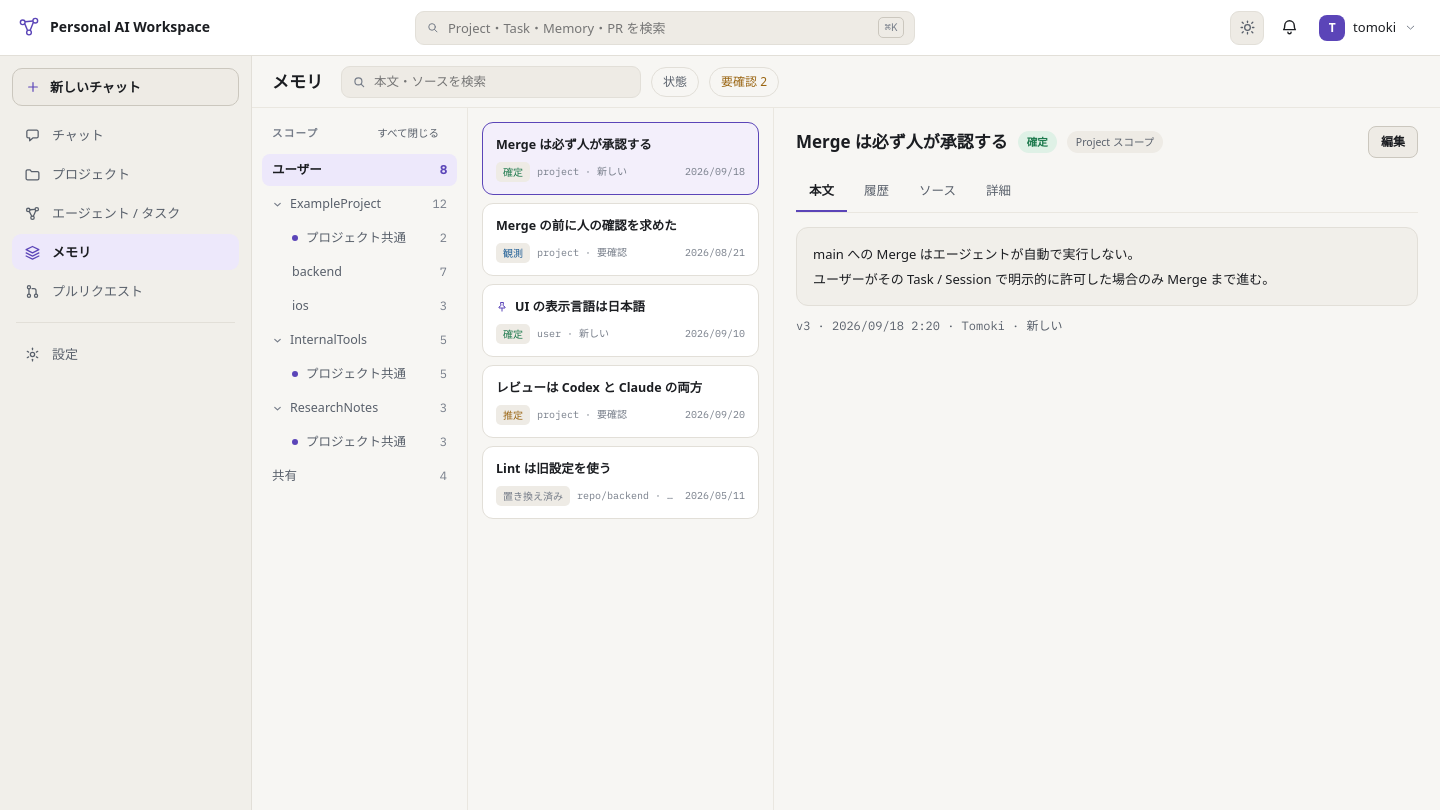
Scenario: Memory screen › draws the history graph and shows a past version when its node is chosen
The width and height of the screenshot is (1440, 810).
What coordinates should you click on to do the following:
click the tab "履歴"
I would click on:
 (876, 192)
Its box is [851,172,902,212].
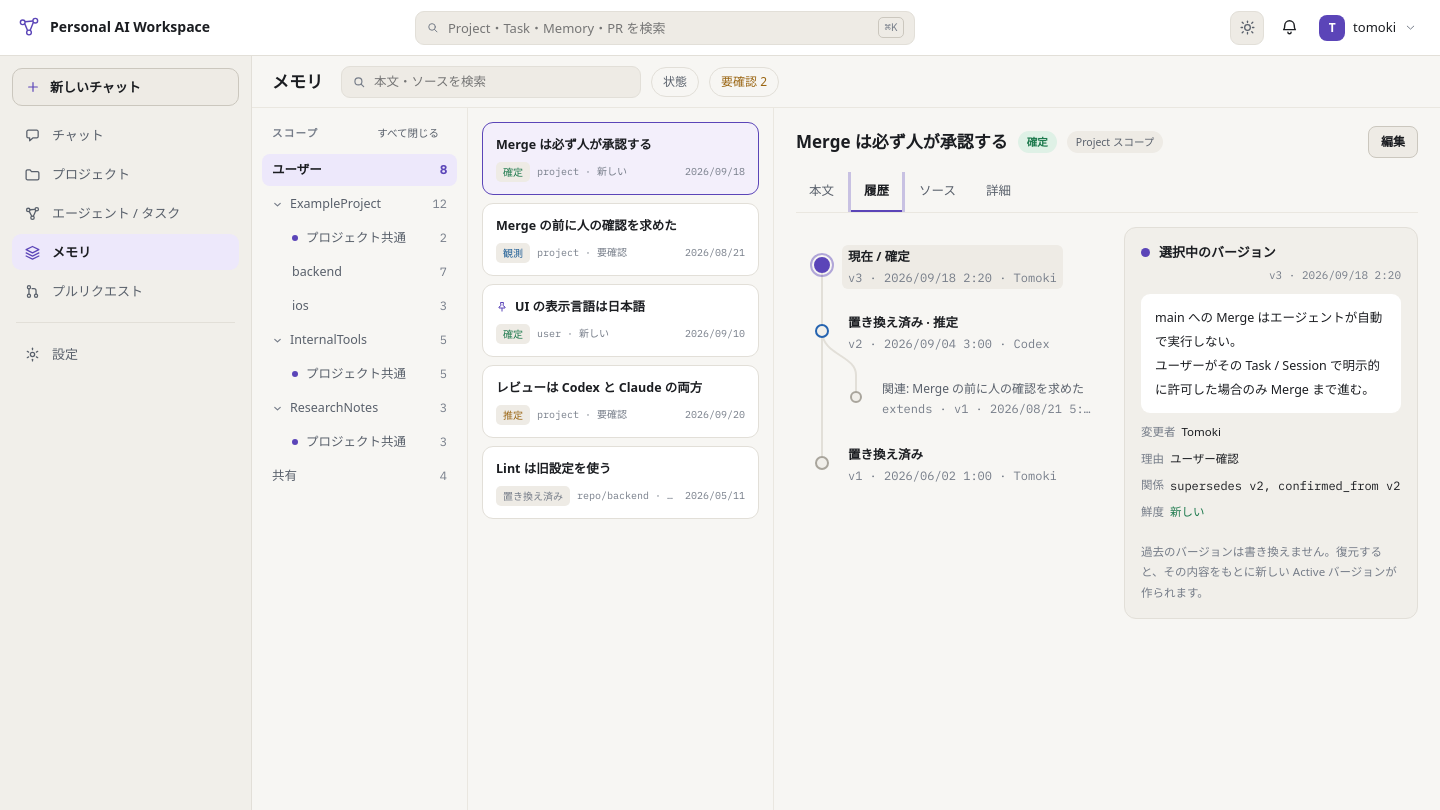
Expected: the button "この内容で新しい版を作る" is not shown
Now the text "supersedes v2, confirmed_from v2" is shown, box [1170,476,1400,495]
Now the text "ユーザー確認" is shown, box [1170,450,1239,468]
What coordinates should you click on to do the following:
click the button "置き換え済み · 推定 v2 · 2026/09/04 3:00 · Codex"
I would click on:
 (949, 333)
Its box is [842,311,1056,355].
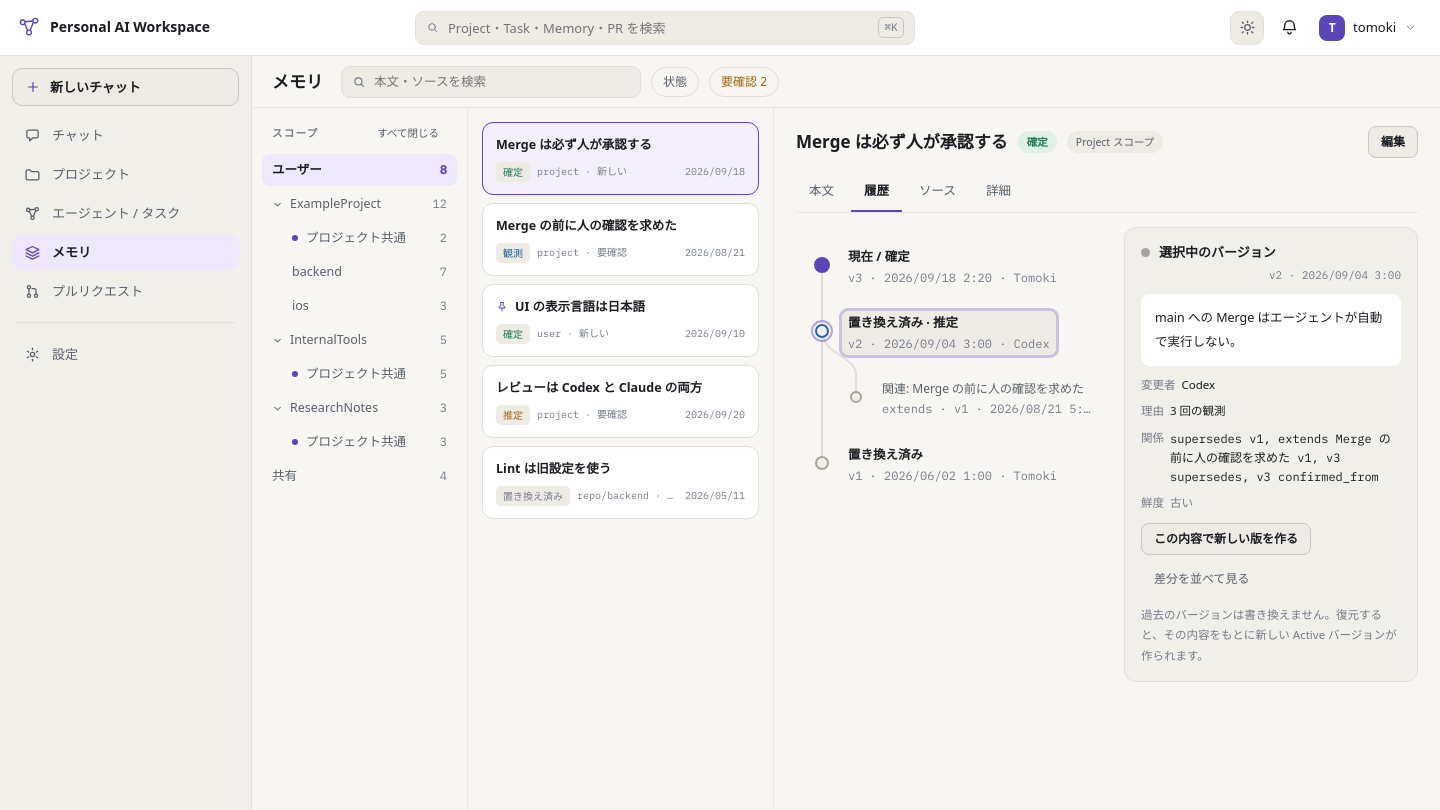
Expected: the text "main への Merge はエージェントが自動で実行しない。" is shown, [1141,294,1401,366]
Now the text "supersedes v1, extends Merge の前に人の確認を求めた v1, v3 supersedes, v3 confirmed_from" is shown, box [1170,429,1401,486]
What coordinates should you click on to do the following:
click the button "差分を並べて見る"
I would click on:
 (1202, 579)
Its box is [1141,563,1262,595].
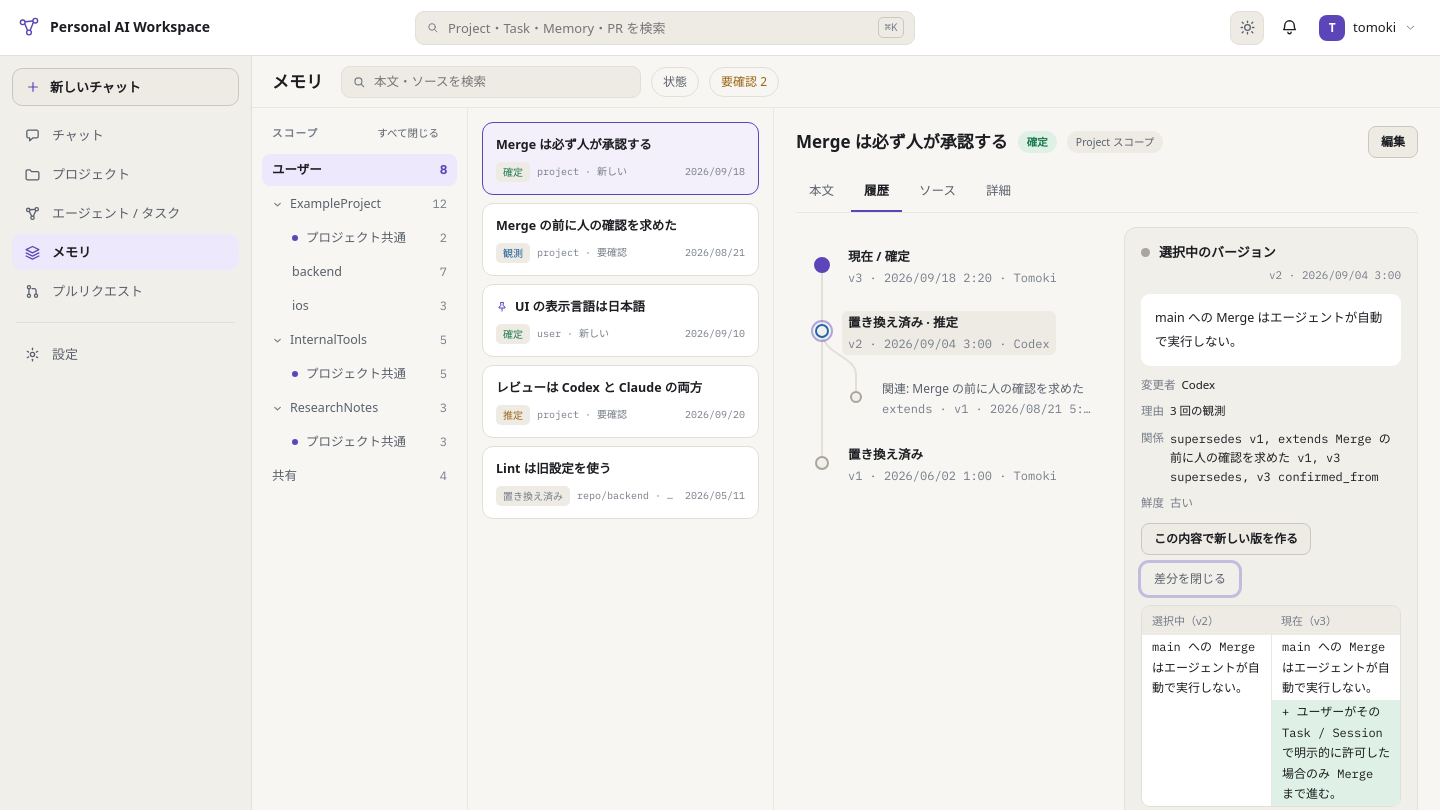
Now the text "選択中（v2）" is shown, box [1152,613,1219,628]
Now the text "現在（v3）" is shown, box [1281,613,1337,628]
Now the element showing "+ ユーザーがその Task / Session で明示的に許可した場合のみ Merge まで進む。" is shown, box [1271,700,1400,806]
# A related memory's version can be looked at, not restored into this one.
What coordinates should you click on to do the following:
click the button "関連: Merge の前に人の確認を求めた extends · v1 · 2026/08/21 5:00"
I would click on:
 (988, 399)
Its box is [876,377,1100,420].
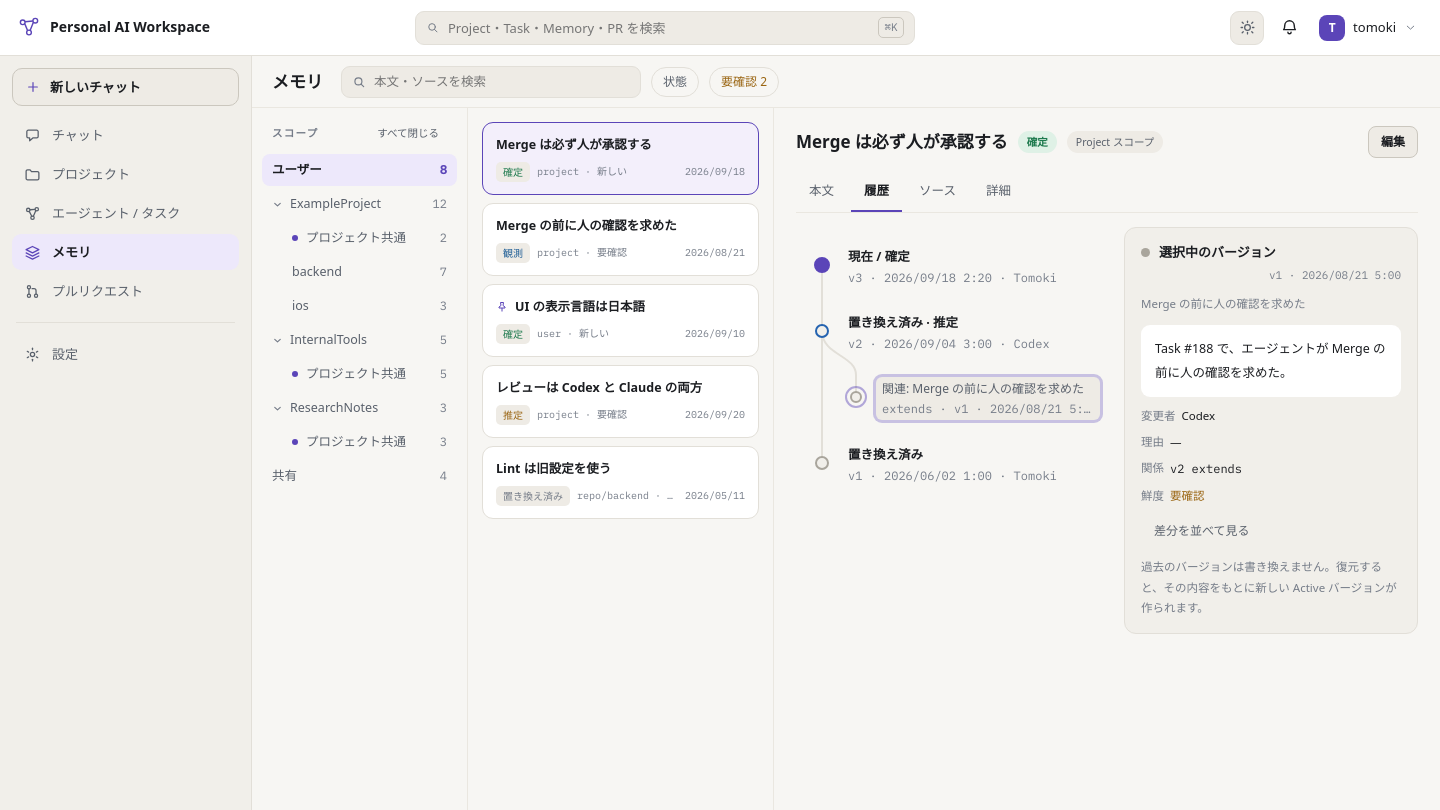
Now the button "この内容で新しい版を作る" is gone
